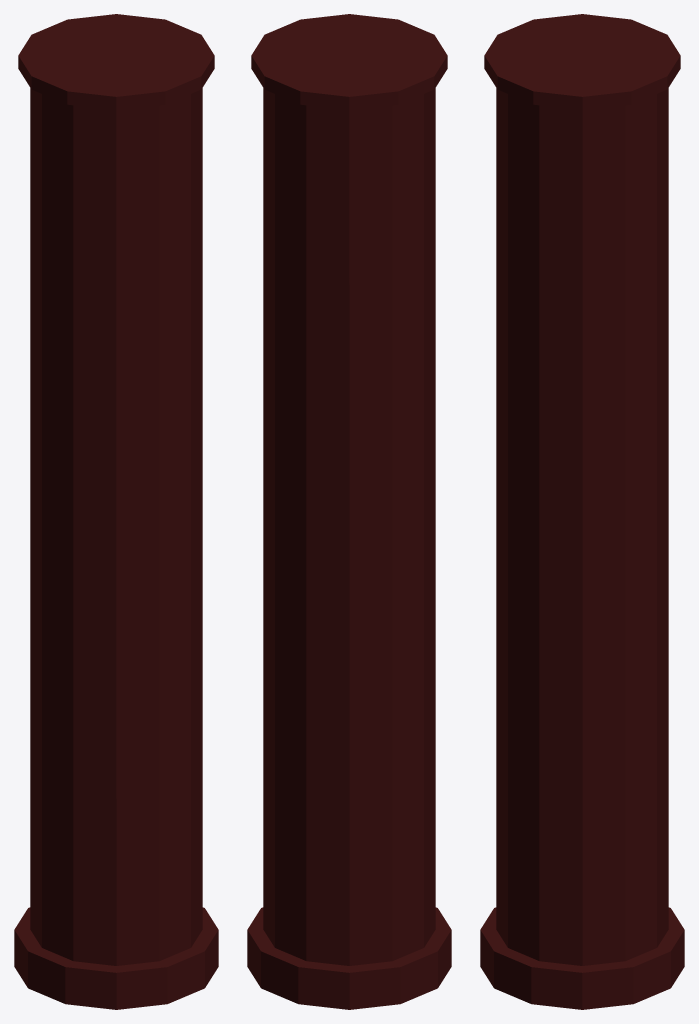
File: RedPillar.fbx
3 views of the same model, side by side, from view 1: azimuth 30°, elevation 25°; view 2: azimuth 150°, elevation 25°; view 3: azimuth 270°, elevation 25° (orthographic).
Visible parts, largest first — view 1: Cylinder.002; view 2: Cylinder.002; view 3: Cylinder.002.
Part boxes in pixels (x1,y1,x2,y2): Cylinder.002: (14, 14, 218, 1009); Cylinder.002: (247, 14, 451, 1009); Cylinder.002: (480, 14, 684, 1009).
Size of the model in its own units: 624 by 3074 by 624.
